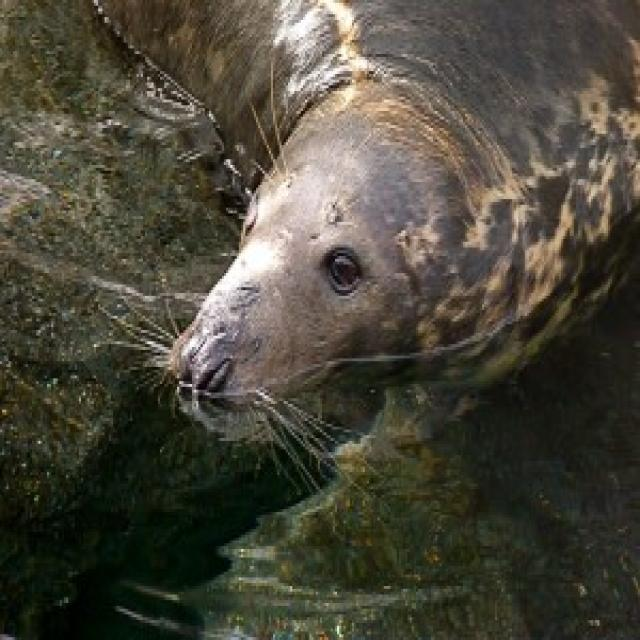Seal: (121, 31, 640, 494)
